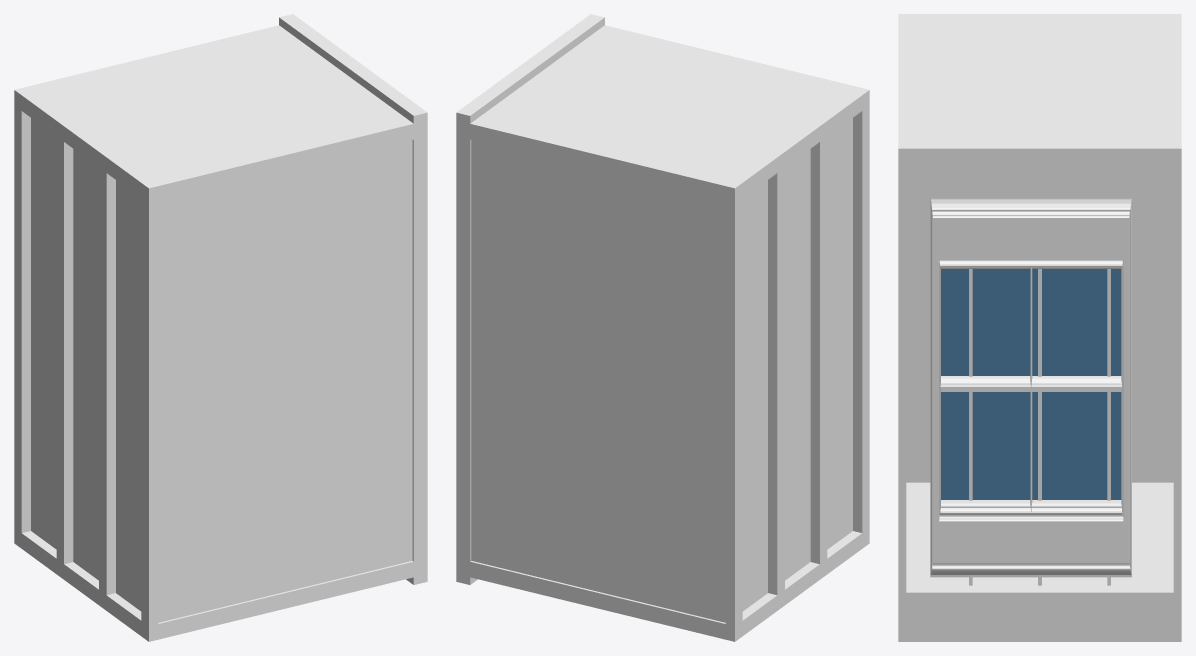
The model's file is appearance.glb.
The picture shows the model from 3 angles, left to right: view 1: azimuth 30°, elevation 25°; view 2: azimuth 150°, elevation 25°; view 3: azimuth 270°, elevation 25°; orthographic projection. The views are drawn at different scales.
Visible parts, largest first — view 1: visual_0_24, visual_0_25, visual_0_7, visual_0_2, visual_0_8, visual_0_3, visual_0_5, visual_0_12, visual_0_16, visual_0_10, visual_0_14, visual_0_36 (+12 smaller); view 2: visual_0_20, visual_0_21, visual_0_7, visual_0_2, visual_0_8, visual_0_3, visual_0_5, visual_0_10, visual_0_14, visual_0_16, visual_0_12, visual_0_33 (+12 smaller); view 3: visual_1_4, visual_0_7, visual_0_0, visual_0_8, visual_0_41, visual_0_38, visual_1_0, visual_1_16, visual_0_5, visual_0_39, visual_0_42, visual_1_1 (+25 smaller).
Part boxes in pixels (x1,y1,x2,y2): visual_0_24: (158,140,412,622); visual_0_25: (158,142,412,618); visual_0_7: (15,25,413,188); visual_0_2: (31,118,141,607); visual_0_8: (14,26,413,203); visual_0_3: (31,119,141,606); visual_0_5: (14,528,413,641); visual_0_12: (141,199,158,626); visual_0_16: (56,137,73,564); visual_0_10: (14,106,30,532); visual_0_14: (99,168,115,595); visual_0_36: (412,159,427,537); visual_0_20: (471,140,725,622); visual_0_21: (471,140,725,621); visual_0_7: (470,25,868,188); visual_0_2: (742,118,852,610); visual_0_8: (470,25,869,203); visual_0_3: (742,120,852,610); visual_0_5: (470,528,869,641); visual_0_10: (725,199,742,626); visual_0_14: (810,137,827,564); visual_0_16: (768,168,784,595); visual_0_12: (853,106,869,532); visual_0_33: (456,159,471,537); visual_1_4: (941,269,1121,499); visual_0_7: (898,14,1181,141); visual_0_0: (906,198,1173,482); visual_0_8: (898,14,1181,141); visual_0_41: (898,141,1181,197); visual_0_38: (898,585,1181,641); visual_1_0: (947,500,1115,577); visual_1_16: (947,198,1115,268); visual_0_5: (906,482,1173,585); visual_0_39: (898,585,1181,641); visual_0_42: (898,141,1181,197); visual_1_1: (947,500,1115,577).
Size of the model in its own units: 0.952 by 1.53 by 0.7956.
